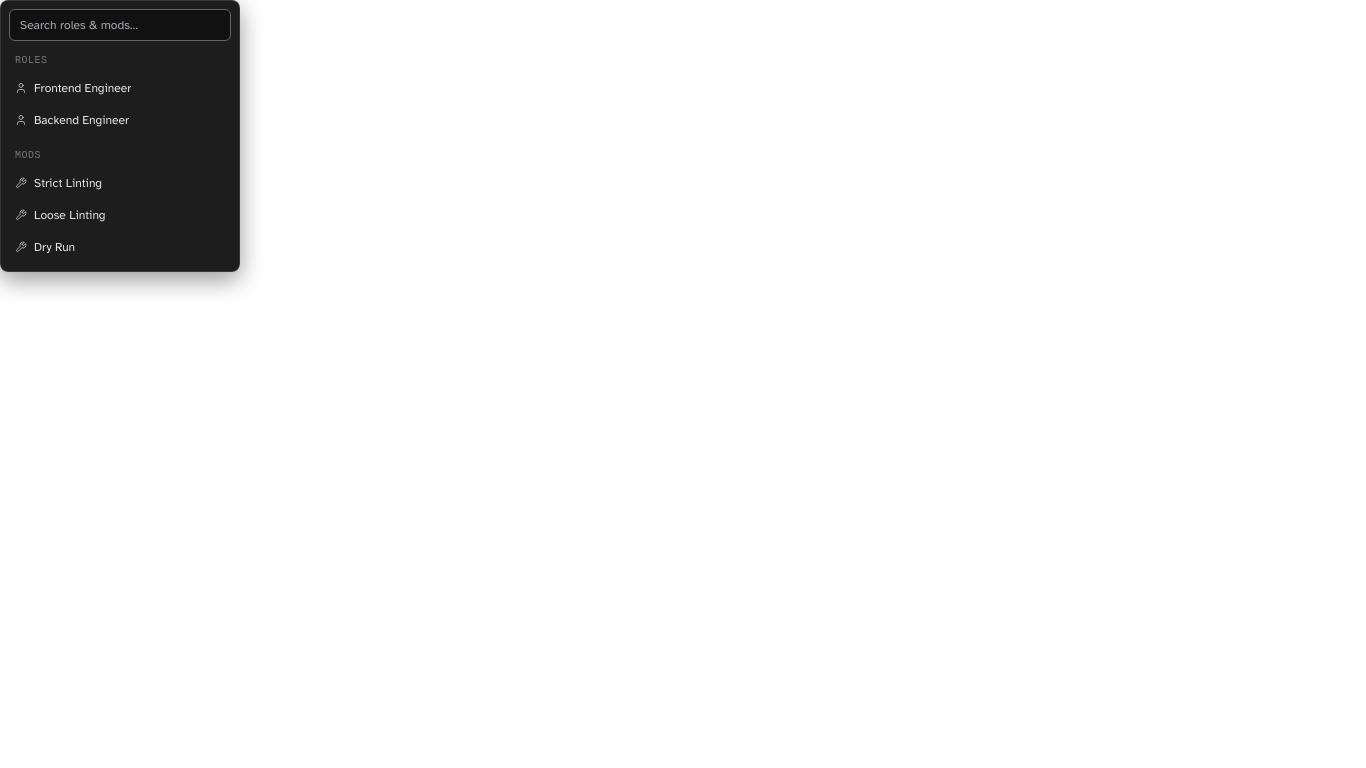
Test case: StepQuickAddPopover — search filtering › filters both lists by a case-insensitive name substring
Type "FRONT" into the field with test id "step-quick-add-search" at (120,25), box [9,9,231,41]
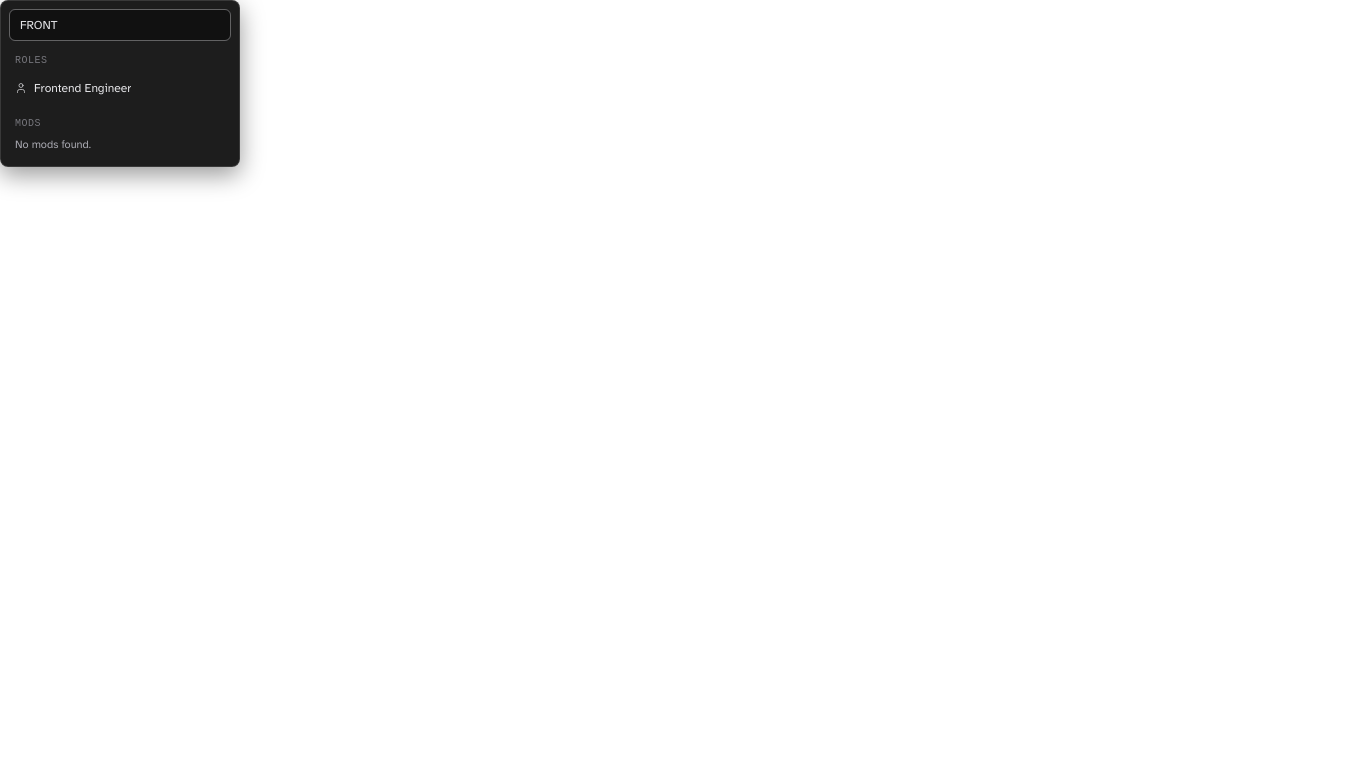
Check: the button with test id "step-quick-add-role-backend-engineer" is gone
Check: the button with test id "step-quick-add-mod-strict-linting" is gone
Check: the button with test id "step-quick-add-mod-loose-linting" is gone
